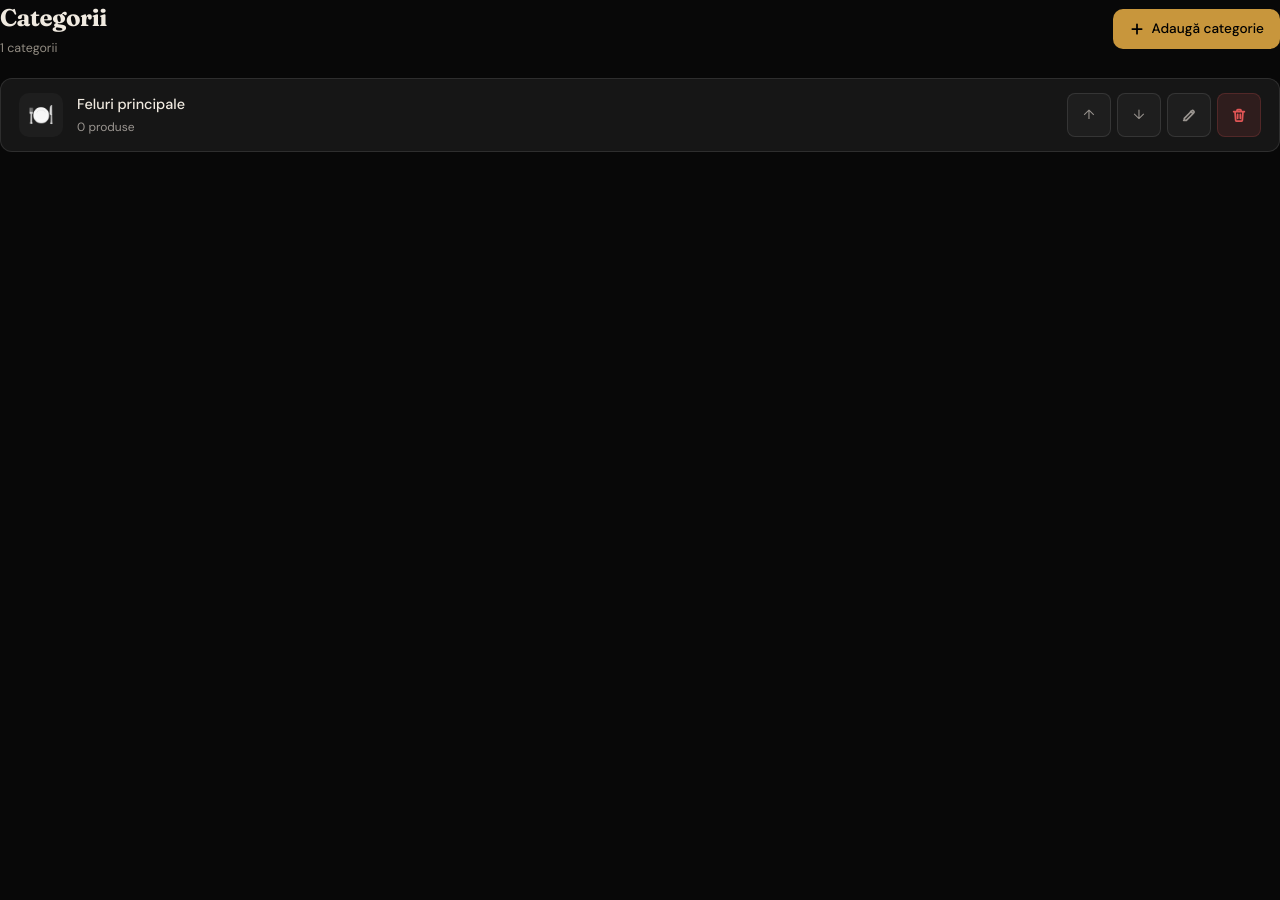
Test: CategoriesTab — traduceri manuale › eroarea Supabase e afișată în modal, fără toast de succes
Step 1. Click the button named "Editează categorie" → (1189,115), box [1167,93,1211,137]
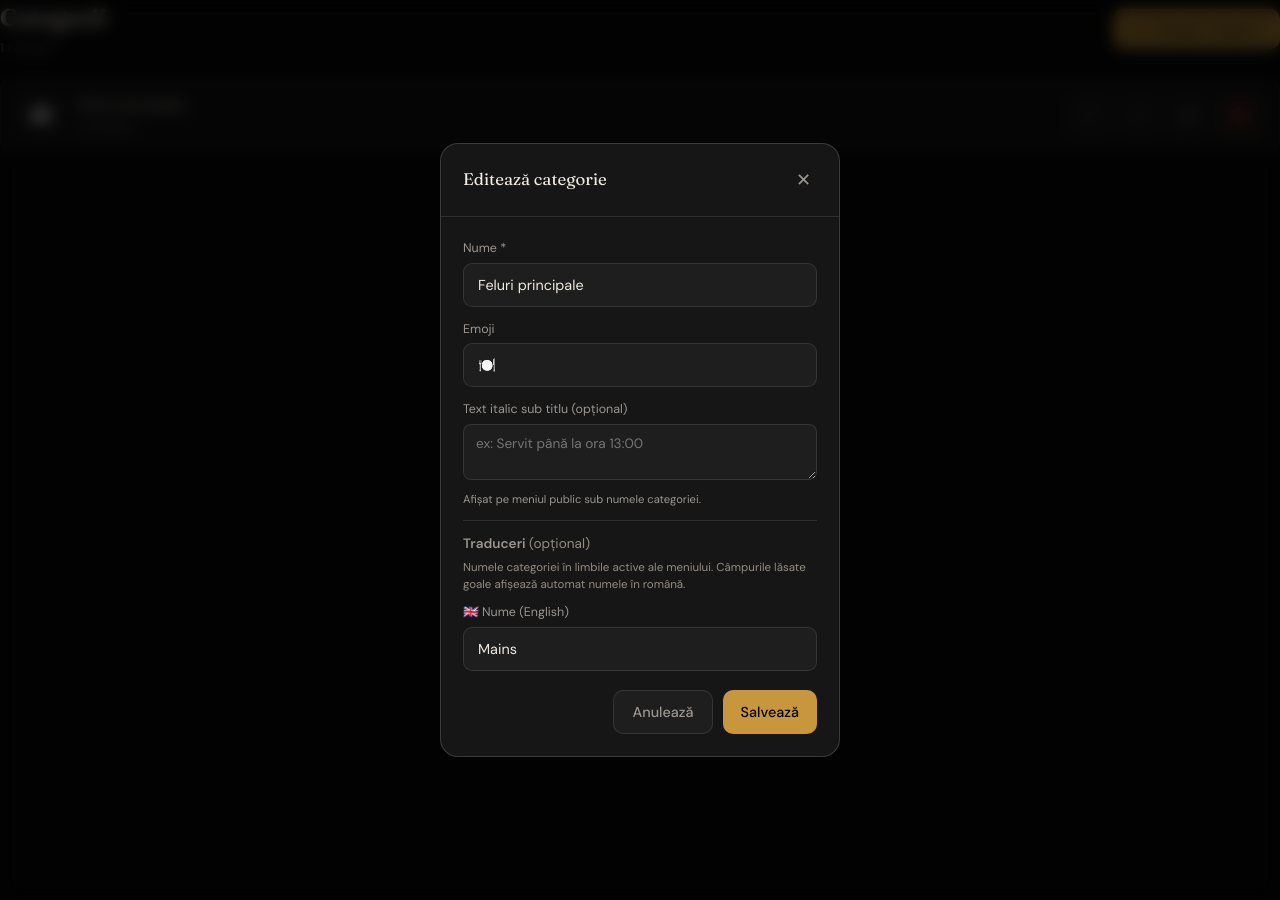
Step 2. Type "!" into the field labelled "🇬🇧 Nume (English)" → (640,649), box [463,627,817,671]
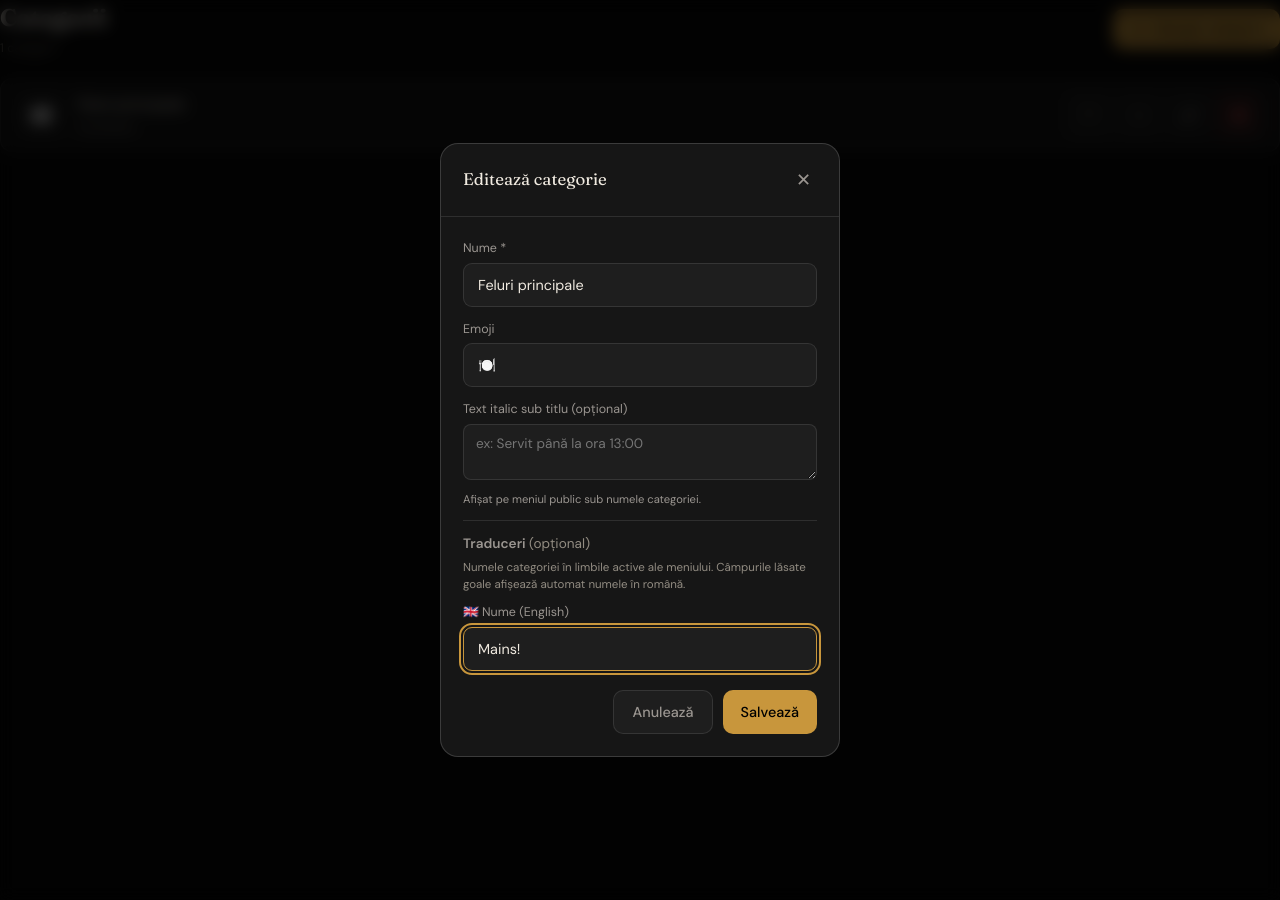
Step 3. Click the button "Salvează" → (770,712), box [723,690,817,734]
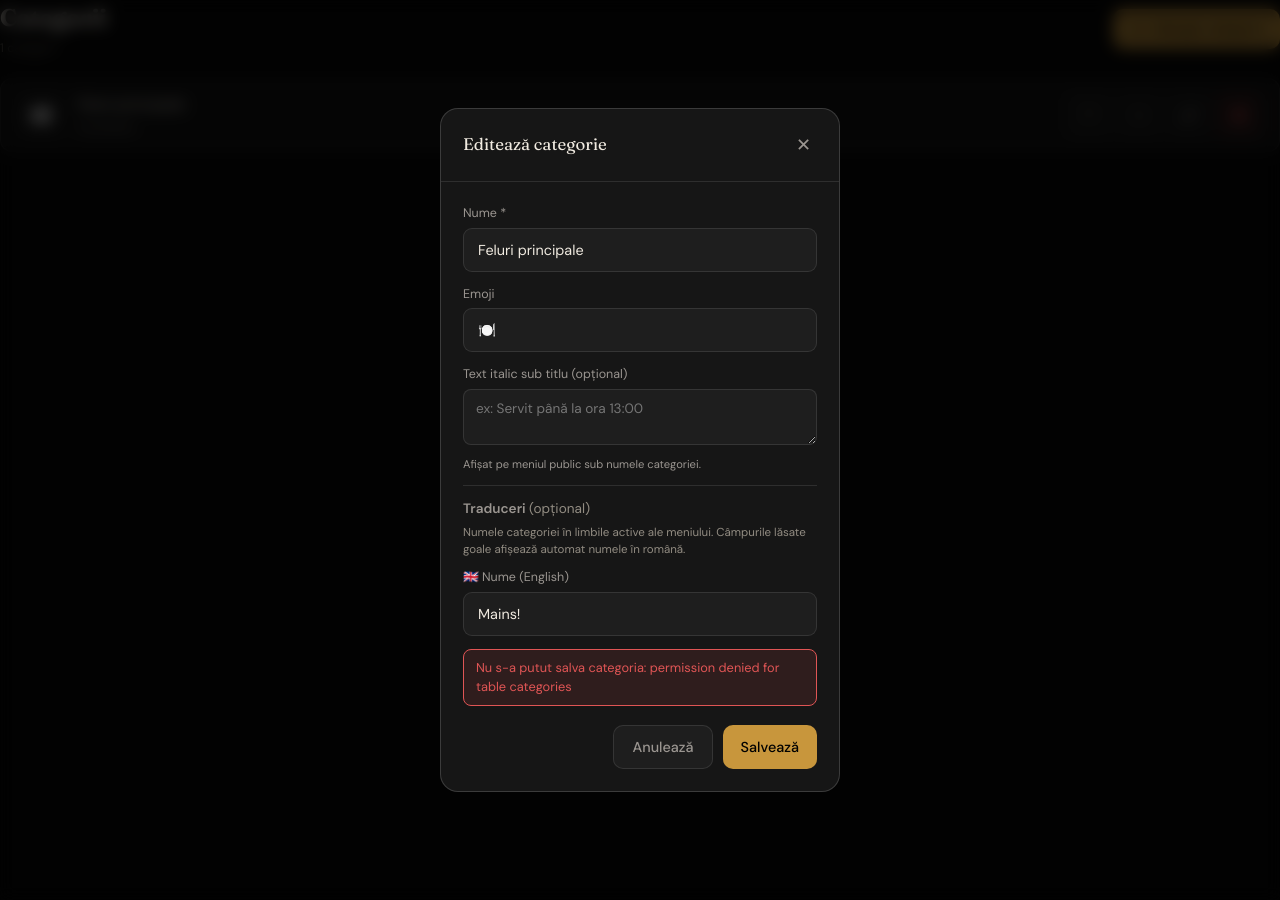
Expected: the field labelled "🇬🇧 Nume (English)" holds "Mains!", [463,592,817,636]
Expected: the message shows "permission denied for table categories", [476,659,779,694]
